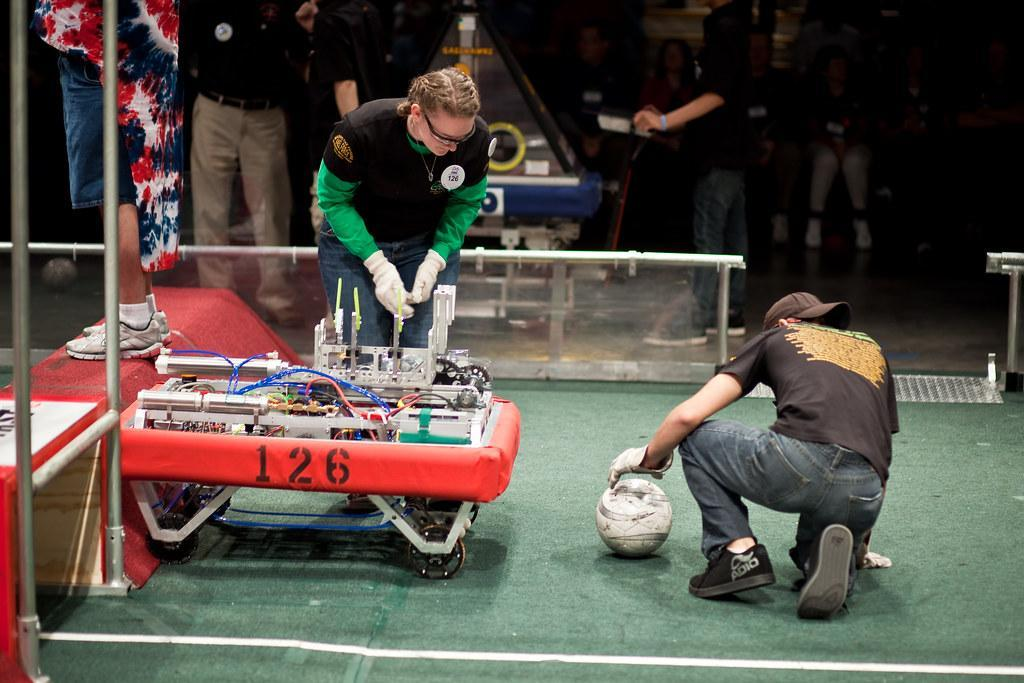robot: (116, 266, 539, 586)
